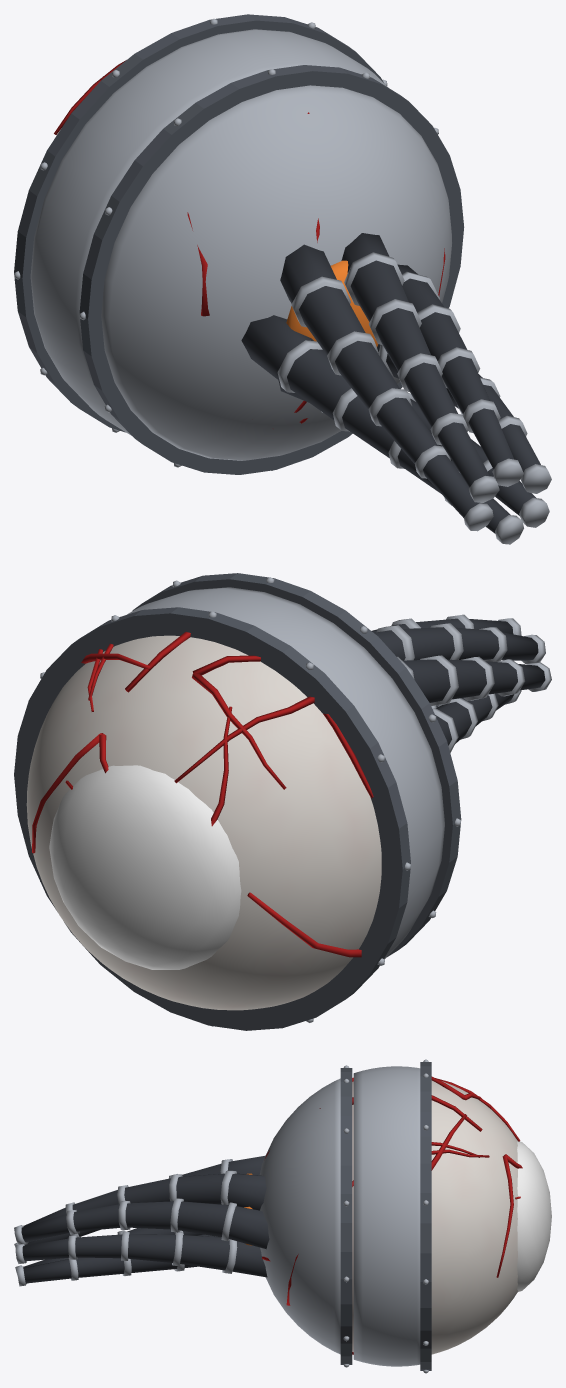
The model's file is retinazer.glb.
3 renders of one model, top to bottom at view 1: azimuth 30°, elevation 25°; view 2: azimuth 150°, elevation 25°; view 3: azimuth 270°, elevation 25°, orthographic. The views are drawn at different scales.
Visible parts, largest first — view 1: retinazer; view 2: retinazer; view 3: retinazer.
Boxes of the visible parts, x1,y1,x2,y2 form: retinazer: (14, 14, 551, 544); retinazer: (14, 573, 551, 1030); retinazer: (14, 1059, 551, 1373).
Size of the model in its own units: 2.84 by 2.84 by 4.84.
